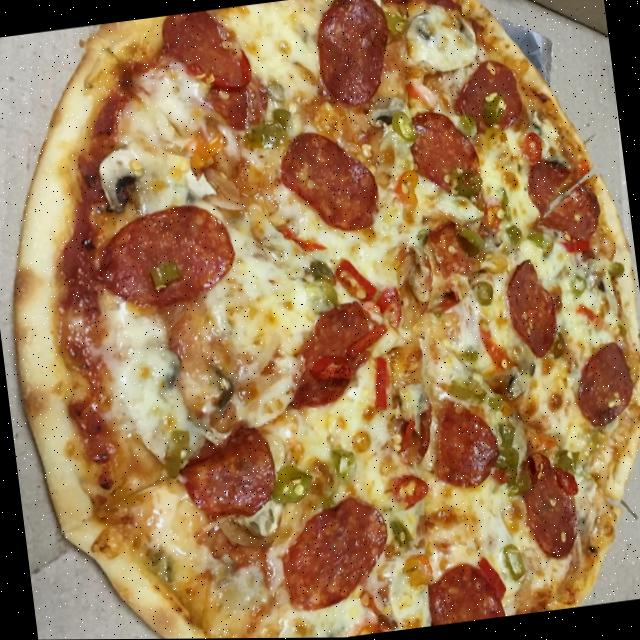mushrooms: (402, 0, 479, 77), (94, 147, 146, 216), (142, 340, 187, 392), (204, 365, 238, 420), (365, 96, 409, 129)
pepperoni: (90, 200, 240, 314), (274, 494, 394, 613), (274, 123, 383, 241), (277, 298, 377, 415), (176, 423, 280, 523), (308, 0, 397, 110), (160, 5, 255, 96), (514, 449, 581, 565), (424, 395, 502, 494), (406, 104, 482, 203), (524, 153, 604, 246), (500, 254, 562, 363), (448, 57, 526, 140), (569, 338, 638, 431), (422, 555, 506, 627), (422, 218, 477, 316), (200, 72, 271, 134)
pizza: (0, 0, 640, 640)
